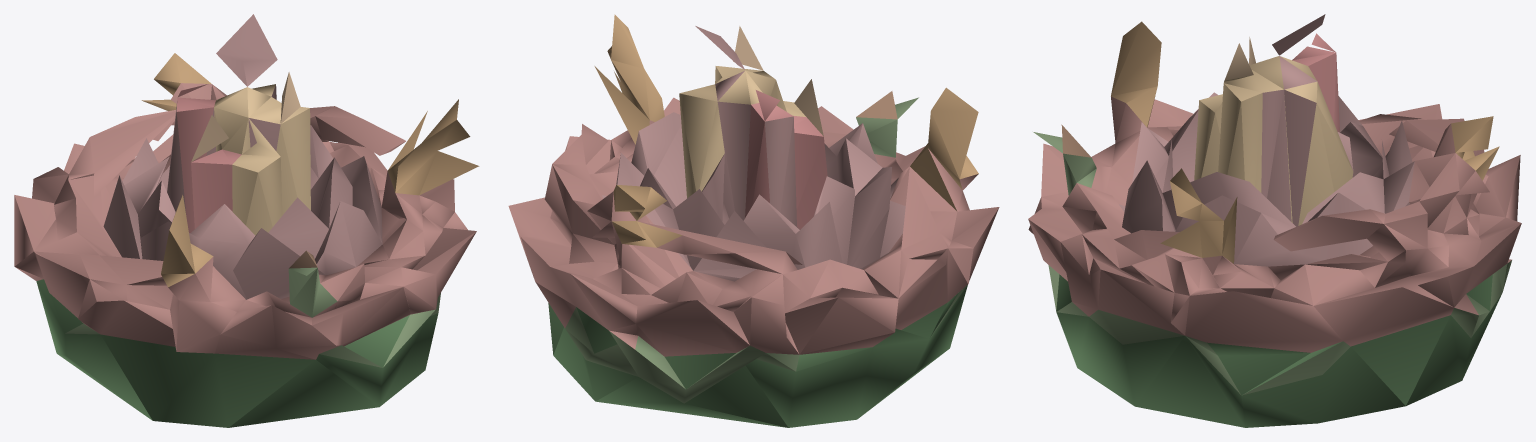
The model's file is naga_01.medium.glb.
3 views of the same model, side by side, from view 1: azimuth 30°, elevation 25°; view 2: azimuth 150°, elevation 25°; view 3: azimuth 270°, elevation 25° (orthographic). The views are drawn at different scales.
Bounding box in the file's own units: 2.14 × 1.74 × 2.15.
